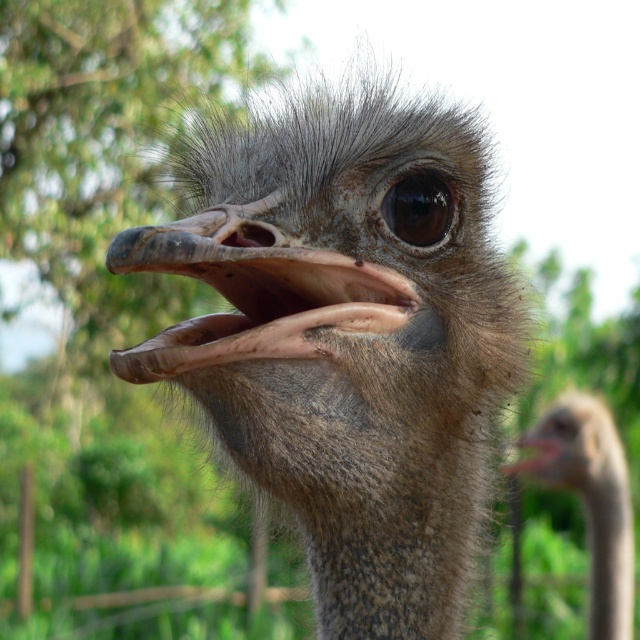Ostrich: (100, 72, 539, 639), (488, 396, 635, 639)
